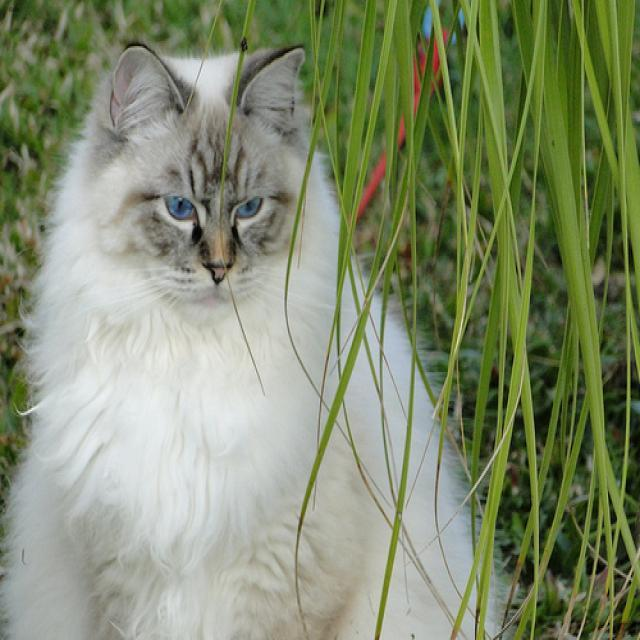Ragdoll: (77, 33, 329, 319)
